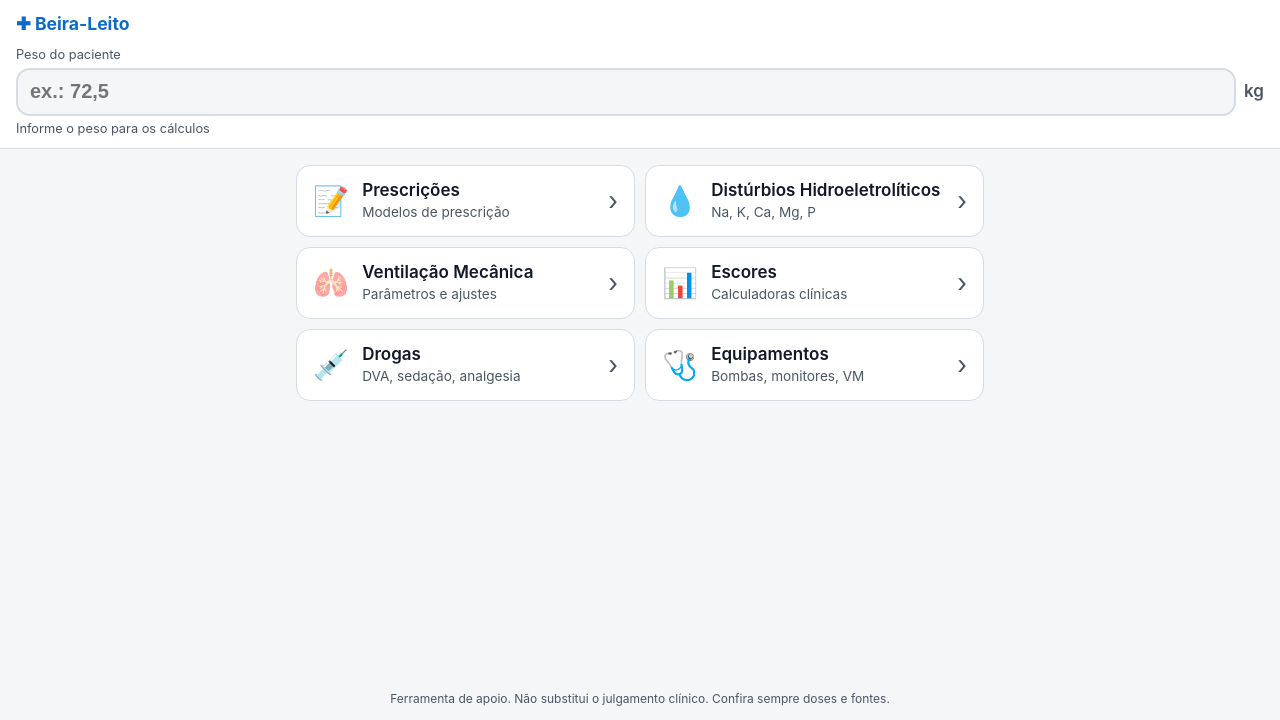
Test case: página inicial › abre a página "Distúrbios Hidroeletrolíticos"
This screenshot has width=1280, height=720.
Click the link "💧 Distúrbios Hidroeletrolíticos Na, K, Ca, Mg, P ›".
click(814, 201)  # box 645,165 -> 984,237
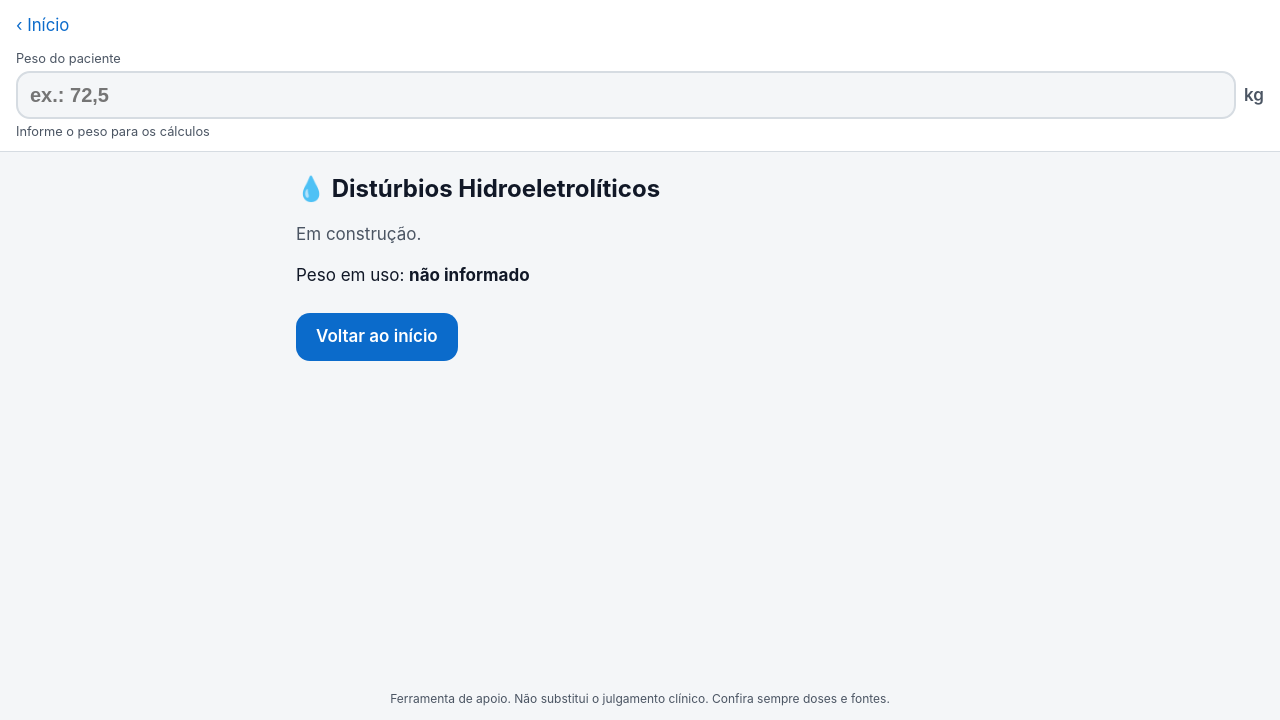
Expected: the heading shows "Distúrbios Hidroeletrolíticos", 332,174 -> 660,203
Expected: the text "Em construção." is shown, 296,224 -> 421,244
